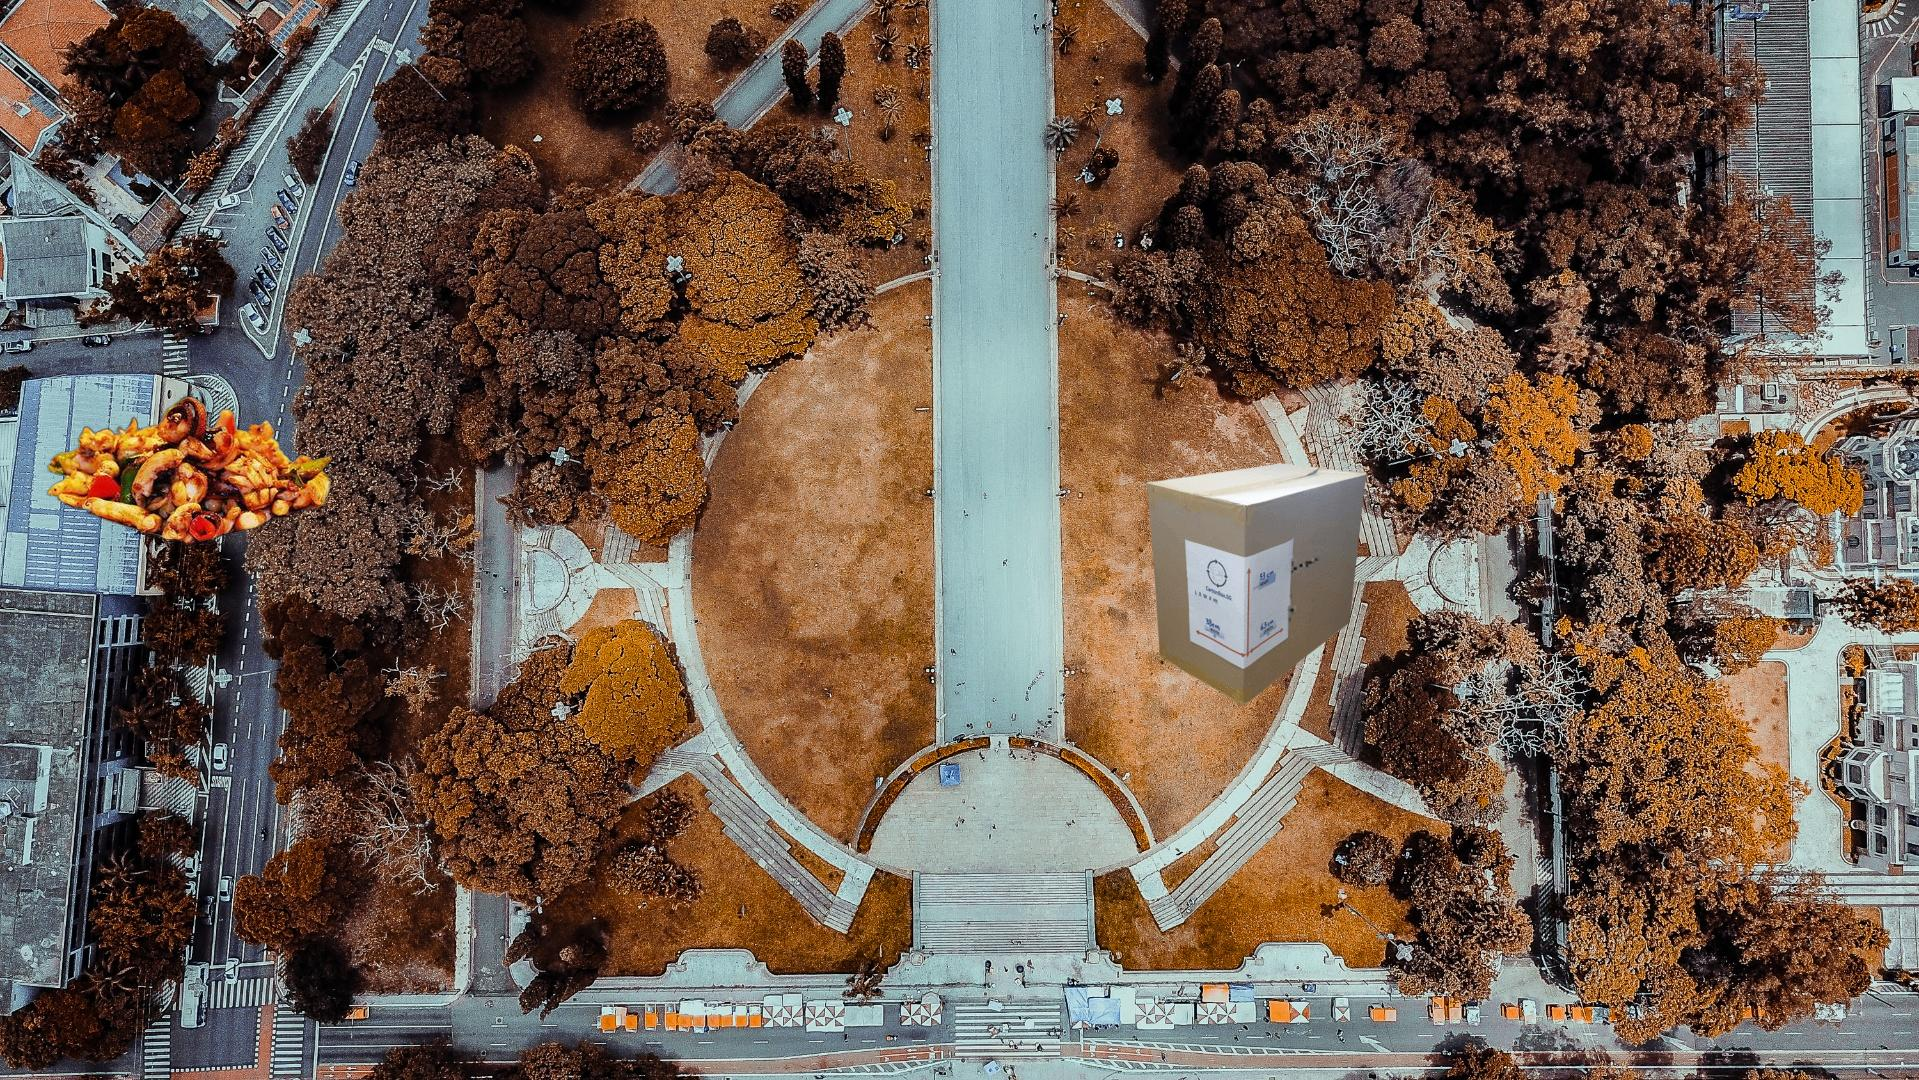biological: (44, 392, 334, 548)
trashbox-cardboard: (1145, 462, 1368, 707)
